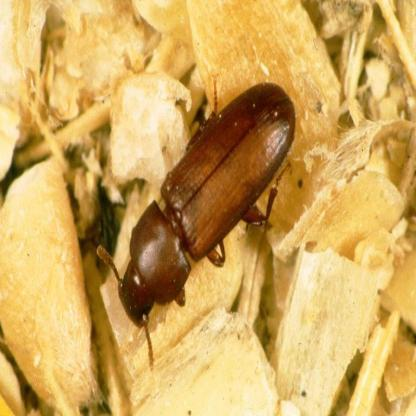rice-bug: (116, 82, 298, 334)
